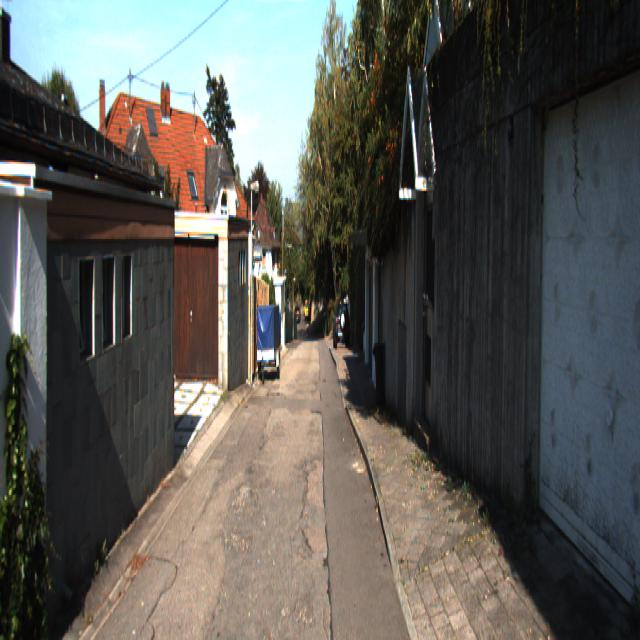Car: (256, 303, 280, 385), (333, 302, 351, 350)
